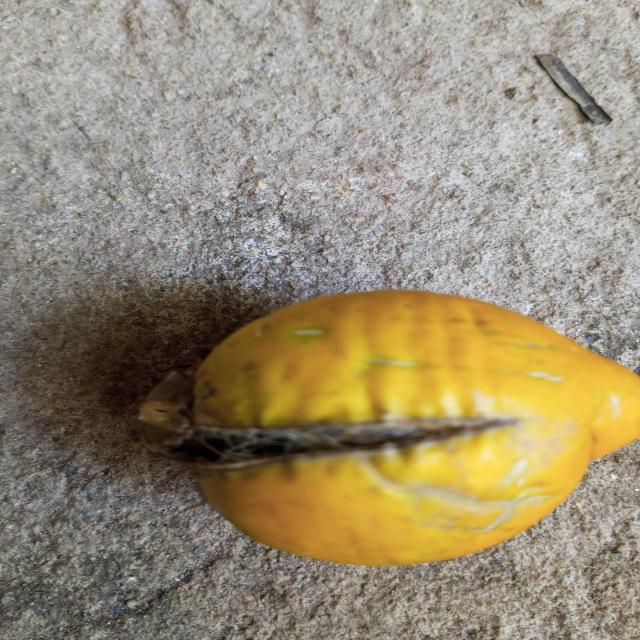damaged: (187, 290, 640, 569)
